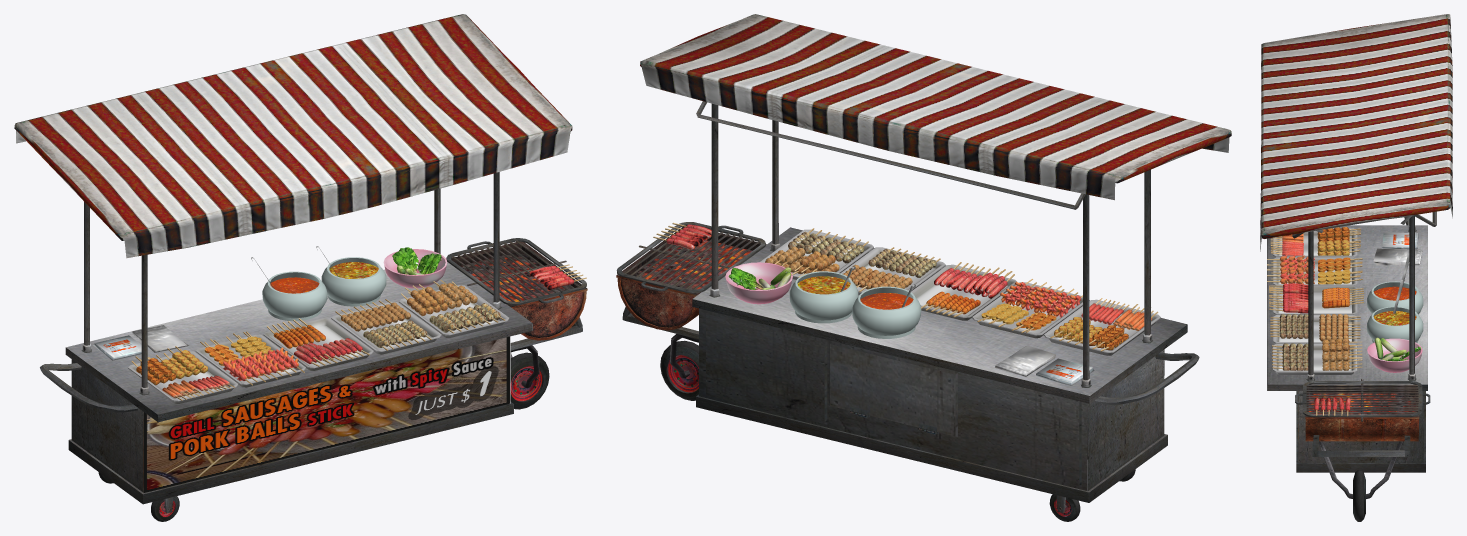
The model's file is Food Cart.fbx.
The picture shows the model from 3 angles, left to right: view 1: azimuth 30°, elevation 25°; view 2: azimuth 150°, elevation 25°; view 3: azimuth 270°, elevation 25°; orthographic projection. The views are drawn at different scales.
Visible parts, largest first — view 1: Food Cart, grill_Material #364_0, cart_decor_Material #361_0, blow_glass_01 - Default_0, tray01_Material #366_0, tray04_Material #369_0, tray02_Material #367_0, tray03_Material #368_0, tray05_Material #370_0; view 2: Food Cart, grill_Material #364_0, cart_decor_Material #361_0, blow_glass_01 - Default_0, tray04_Material #369_0, tray03_Material #368_0, tray05_Material #370_0, tray01_Material #366_0, tray02_Material #367_0; view 3: Food Cart, grill_Material #364_0, cart_decor_Material #361_0, tray01_Material #366_0, tray03_Material #368_0, tray04_Material #369_0, tray02_Material #367_0, tray05_Material #370_0, blow_glass_01 - Default_0.
Boxes of the visible parts, <box> form: Food Cart: <box>14,14,572,504</box>; grill_Material #364_0: <box>40,238,587,521</box>; cart_decor_Material #361_0: <box>93,246,447,360</box>; blow_glass_01 - Default_0: <box>262,257,386,321</box>; tray01_Material #366_0: <box>399,280,509,337</box>; tray04_Material #369_0: <box>195,331,305,387</box>; tray02_Material #367_0: <box>331,299,441,354</box>; tray03_Material #368_0: <box>263,318,373,370</box>; tray05_Material #370_0: <box>128,346,238,403</box>; Food Cart: <box>640,14,1231,502</box>; grill_Material #364_0: <box>616,222,1199,521</box>; cart_decor_Material #361_0: <box>725,262,1094,385</box>; blow_glass_01 - Default_0: <box>789,271,921,338</box>; tray04_Material #369_0: <box>972,279,1082,338</box>; tray03_Material #368_0: <box>911,262,1016,320</box>; tray05_Material #370_0: <box>1044,298,1160,355</box>; tray01_Material #366_0: <box>760,228,873,279</box>; tray02_Material #367_0: <box>840,247,945,295</box>; Food Cart: <box>1260,14,1452,472</box>; grill_Material #364_0: <box>1295,217,1430,521</box>; cart_decor_Material #361_0: <box>1367,232,1422,372</box>; tray01_Material #366_0: <box>1272,338,1362,374</box>; tray03_Material #368_0: <box>1269,283,1364,314</box>; tray04_Material #369_0: <box>1267,254,1362,285</box>; tray02_Material #367_0: <box>1270,314,1360,343</box>; tray05_Material #370_0: <box>1270,226,1360,257</box>; blow_glass_01 - Default_0: <box>1367,281,1423,342</box>.
Size of the model in its own units: 391 by 265 by 148.
